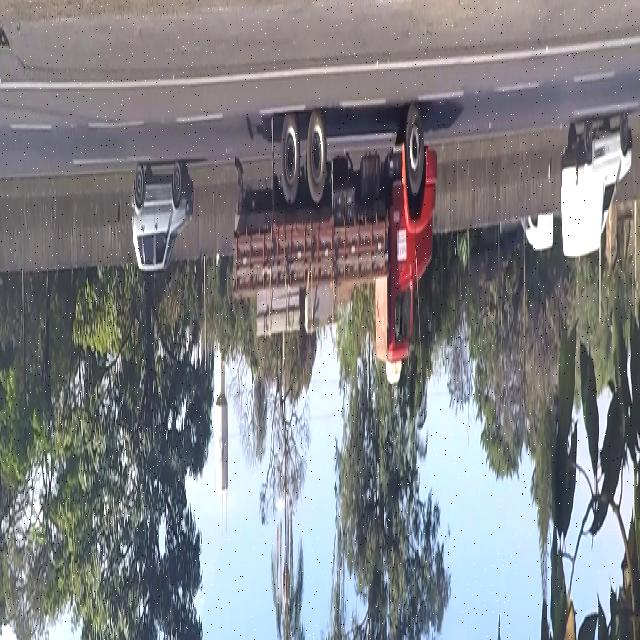-axle: (279, 108, 301, 211), (306, 110, 329, 202), (404, 103, 426, 199)
